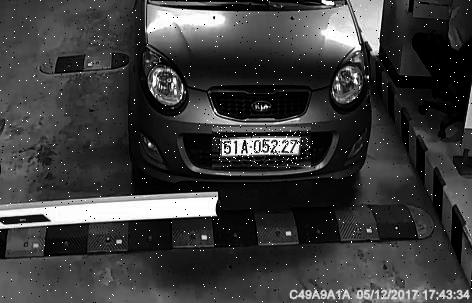License-plate: (213, 129, 312, 170)
